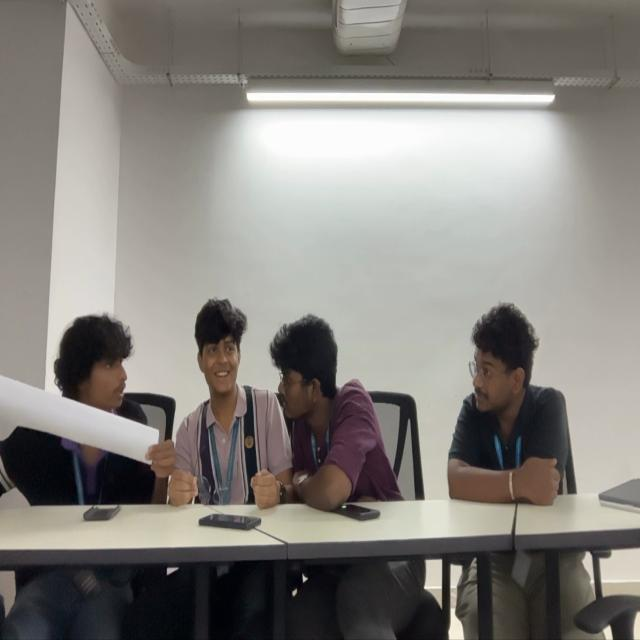Isolated: (448, 306, 581, 502)
socializing: (0, 295, 396, 500)
